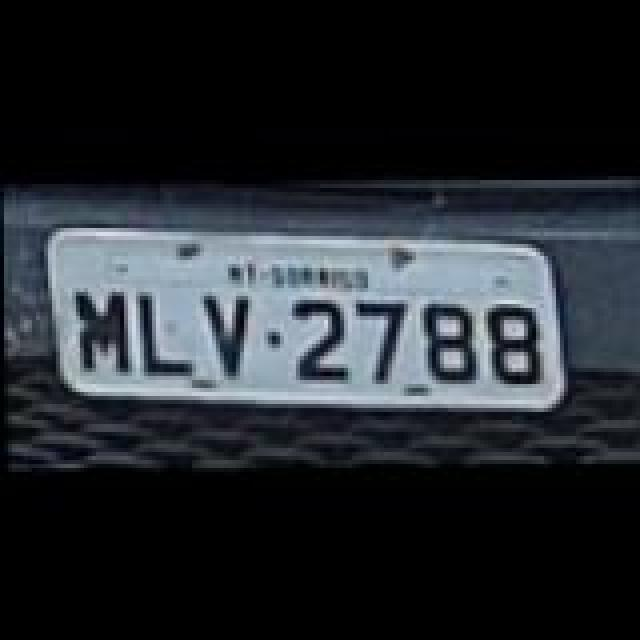2: (292, 296, 348, 380)
7: (360, 294, 408, 378)
8: (488, 298, 544, 378), (424, 300, 480, 380)
L: (138, 288, 190, 372)
M: (76, 284, 132, 372)
V: (206, 294, 258, 378)
